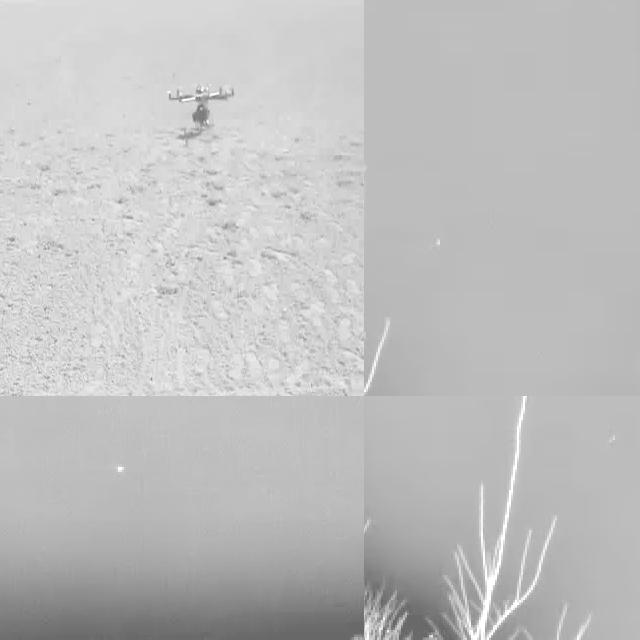0: (427, 231, 455, 261), (603, 425, 629, 457)
1: (110, 457, 138, 487)
drone: (166, 75, 235, 124)
